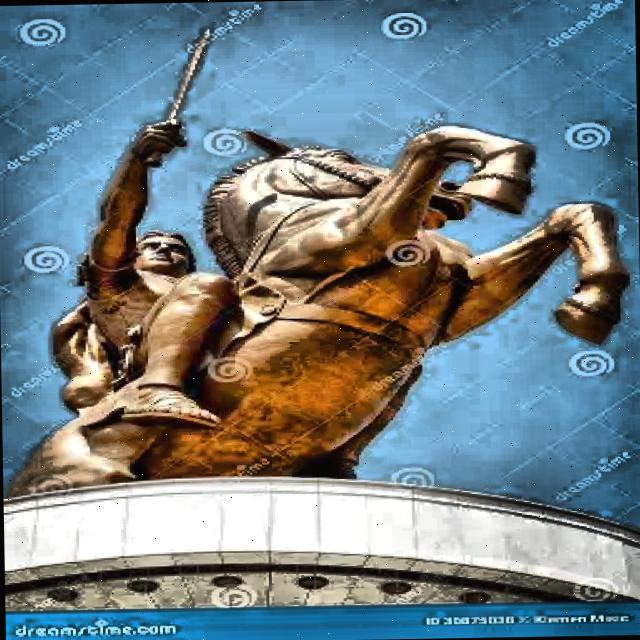alexander the great monument: (0, 22, 637, 585)
